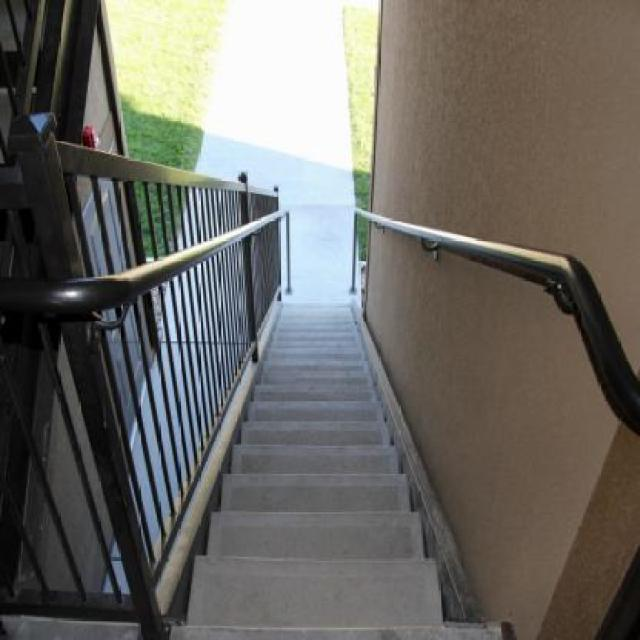stair: (147, 132, 522, 639)
